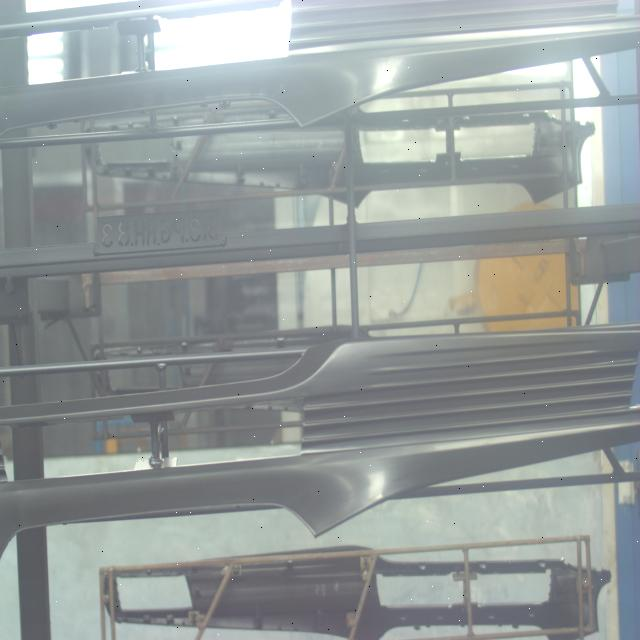Non_primered: (0, 323, 640, 577), (1, 0, 640, 130)
